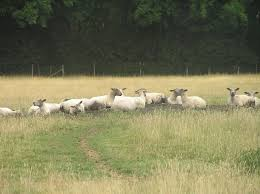sheep: (166, 86, 206, 111), (87, 86, 123, 113), (60, 91, 83, 118), (226, 85, 250, 109), (34, 96, 60, 118), (137, 85, 163, 106), (1, 101, 25, 121), (243, 86, 260, 111)
